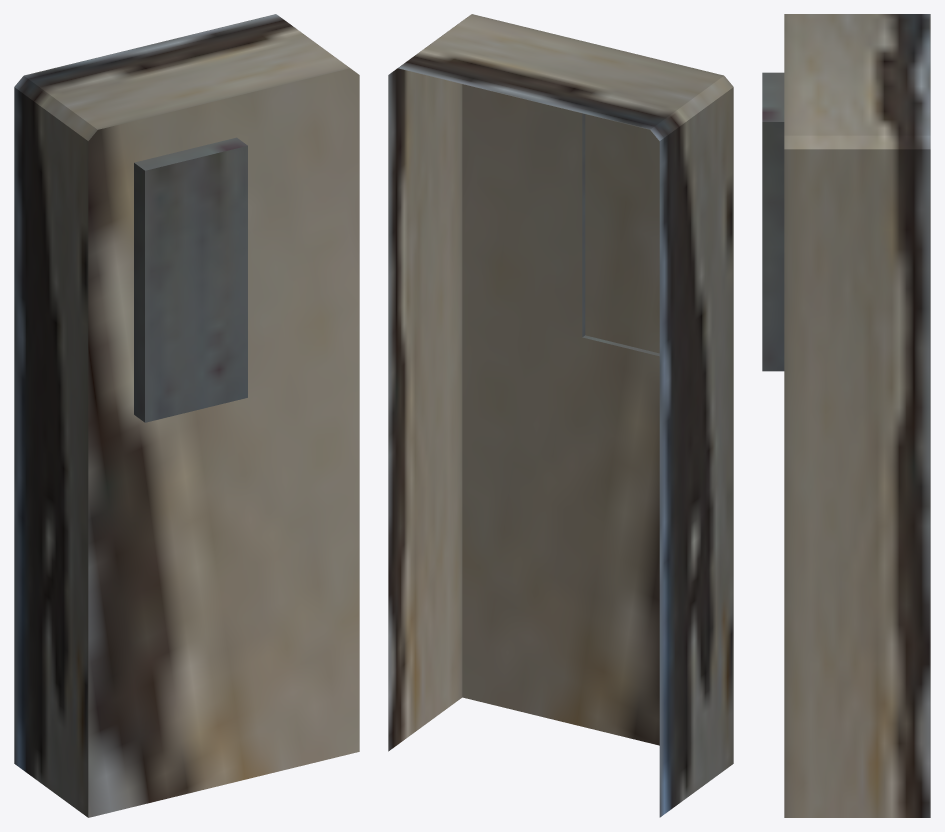
Rendered from StartPanel.fbx.
3 views of the same model, side by side, from view 1: azimuth 30°, elevation 25°; view 2: azimuth 150°, elevation 25°; view 3: azimuth 270°, elevation 25° (orthographic).
Visible parts, largest first — view 1: EndGamePanel; view 2: EndGamePanel; view 3: EndGamePanel.
Part boxes in pixels (x1=…): EndGamePanel: x1=14, y1=14, x2=359, y2=817; EndGamePanel: x1=388, y1=14, x2=733, y2=817; EndGamePanel: x1=762, y1=14, x2=930, y2=817.
Size of the model in its own units: 147 by 354 by 79.82.
